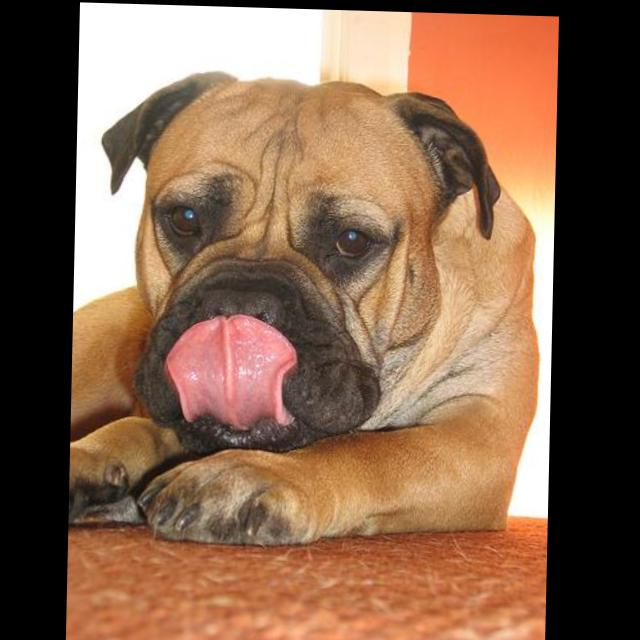bullmastiff: (73, 66, 551, 552)
